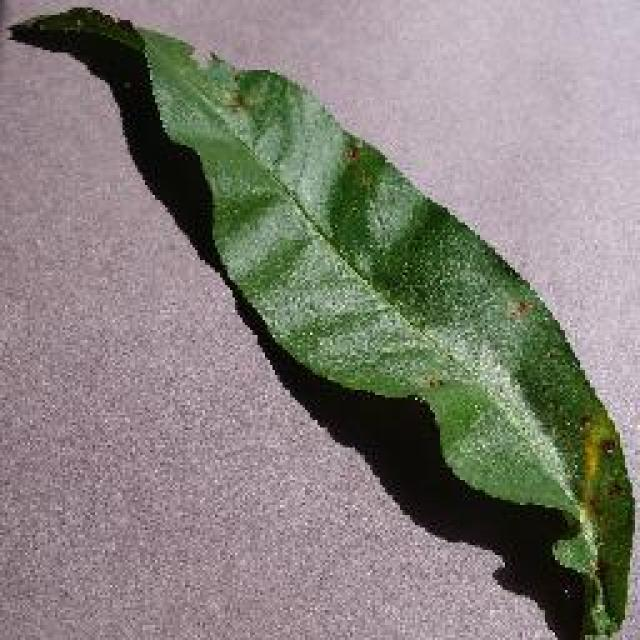Peach_Bacterial_Spot: (255, 123, 502, 402)
